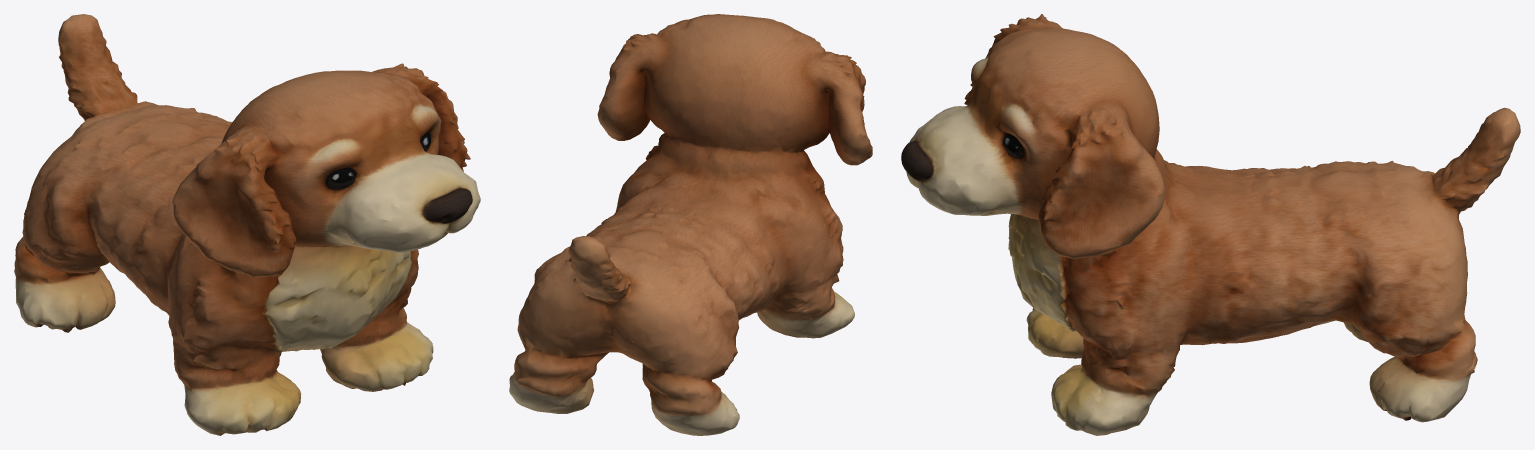
File: dachshund.glb
3 renders of one model, left to right at view 1: azimuth 30°, elevation 25°; view 2: azimuth 150°, elevation 25°; view 3: azimuth 270°, elevation 25°, orthographic. The views are drawn at different scales.
Visible parts, largest first — view 1: tripo_node_028bd41a-20a7-456a-9e84-7633df86ffbe; view 2: tripo_node_028bd41a-20a7-456a-9e84-7633df86ffbe; view 3: tripo_node_028bd41a-20a7-456a-9e84-7633df86ffbe.
Part boxes in pixels (x1=…): tripo_node_028bd41a-20a7-456a-9e84-7633df86ffbe: x1=14, y1=14, x2=480, y2=435; tripo_node_028bd41a-20a7-456a-9e84-7633df86ffbe: x1=509, y1=14, x2=872, y2=435; tripo_node_028bd41a-20a7-456a-9e84-7633df86ffbe: x1=901, y1=14, x2=1520, y2=435.
Size of the model in its own units: 0.5544 by 0.6023 by 1.
1 material, 1 textured.
